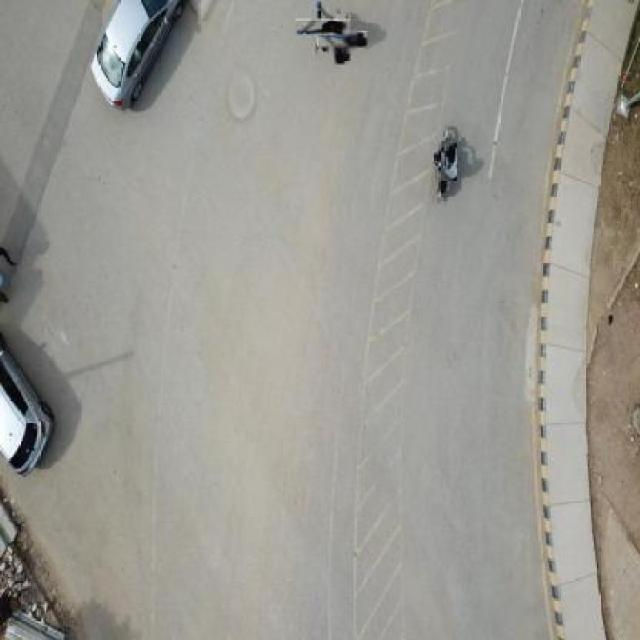Person: (306, 9, 342, 46), (326, 22, 359, 56), (440, 143, 458, 182)
